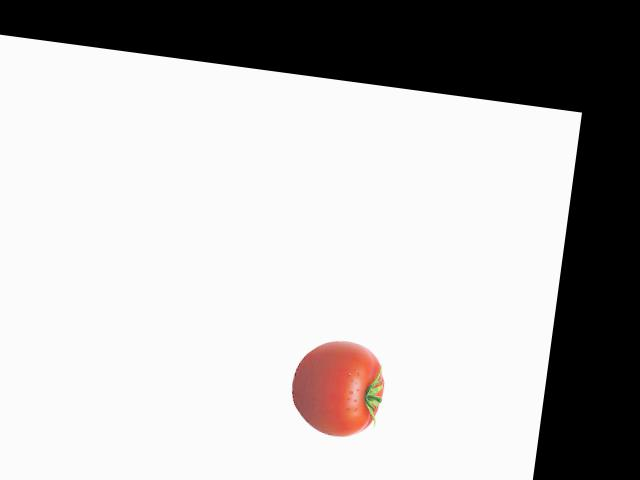tomato: (286, 346, 387, 441)
